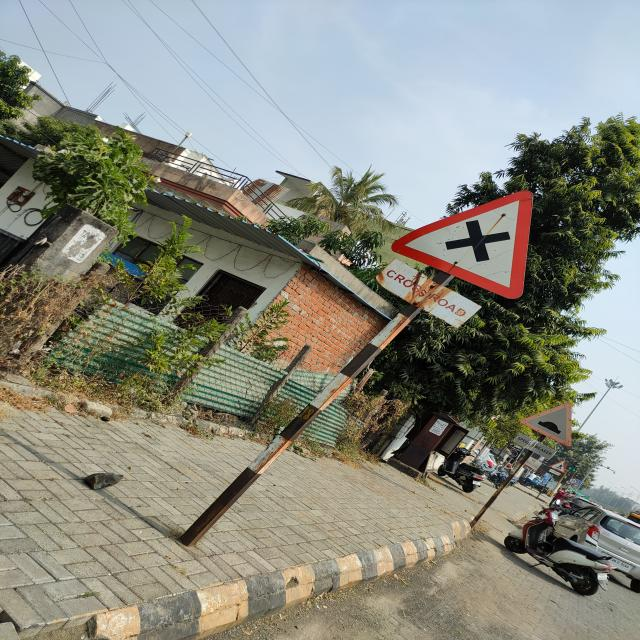cross_road: (391, 187, 536, 300)
